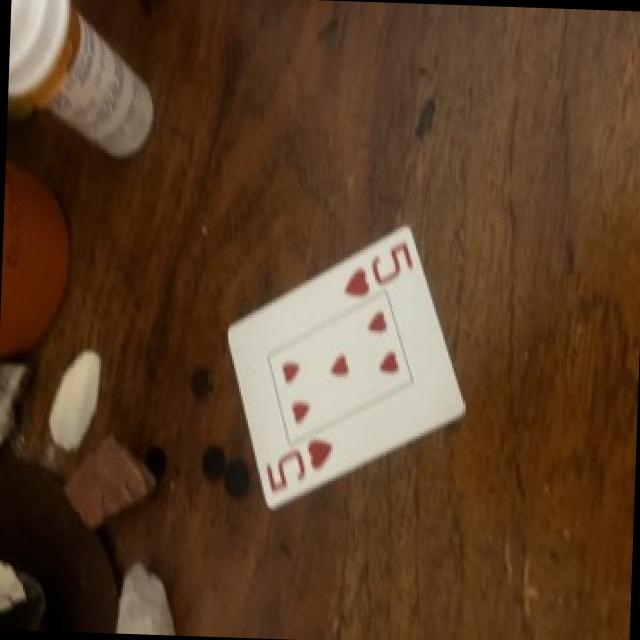5 of hearts: (228, 227, 464, 508)
